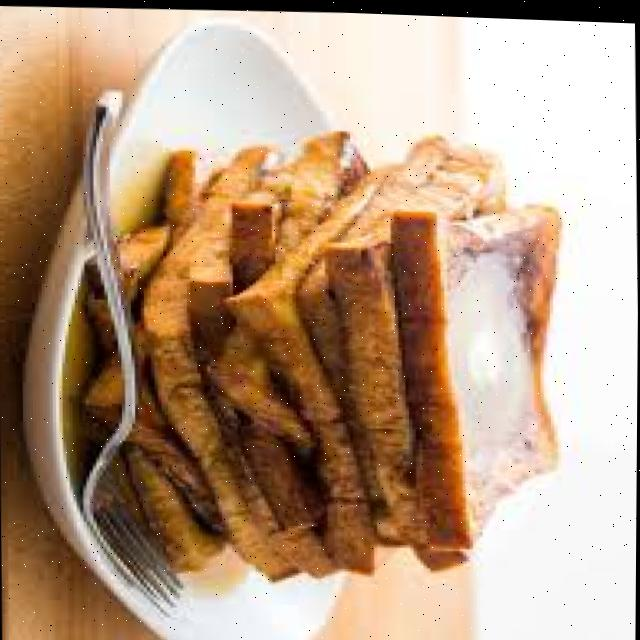Bread: (393, 202, 558, 566)
